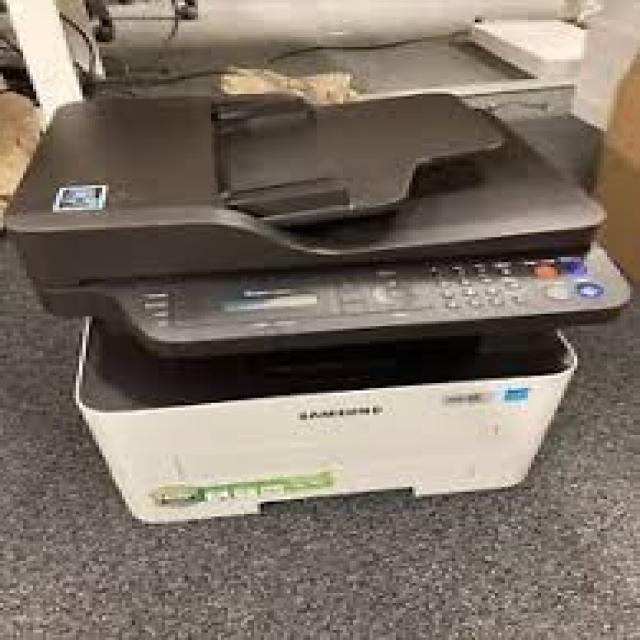printer: (3, 90, 640, 529)
